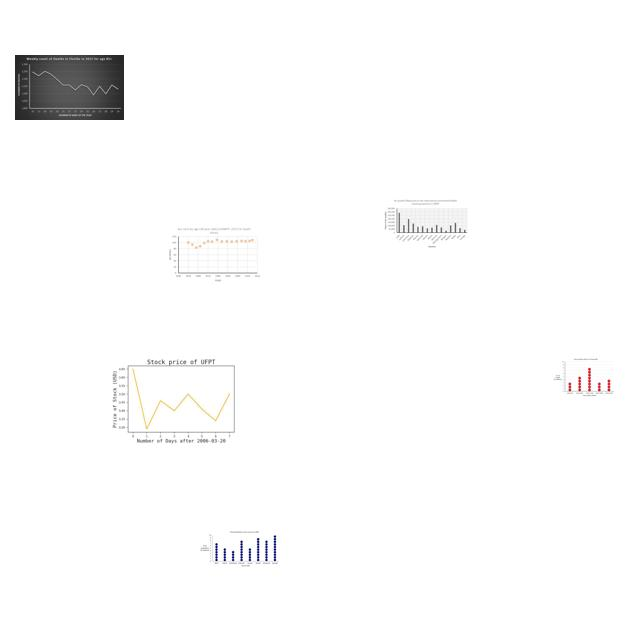Graph: (111, 347, 248, 450), (15, 55, 124, 120), (167, 226, 261, 282), (382, 198, 469, 249), (200, 531, 280, 567), (552, 357, 615, 398)
